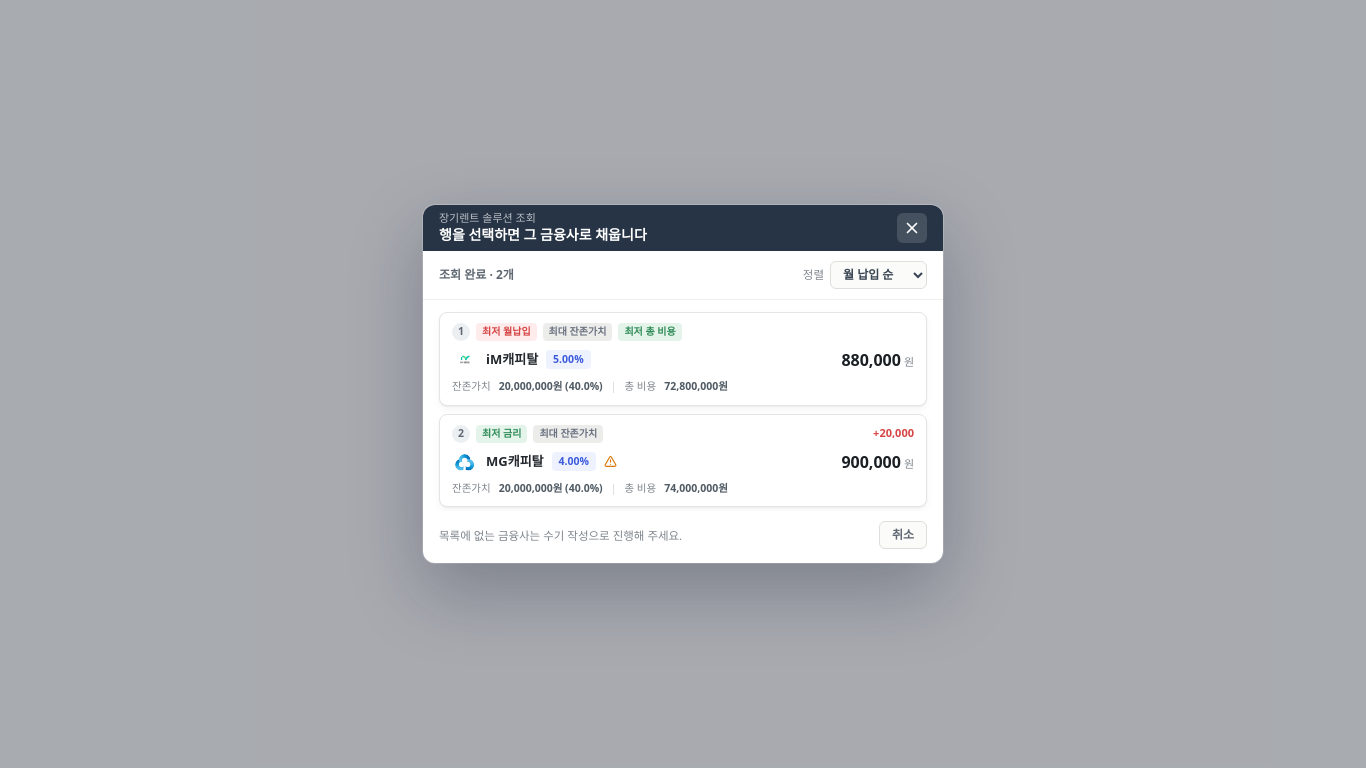
Test case: SolutionLenderRankingModal (개정 2 R4 — 제프 랭킹 UX 미러) › 정렬 토글: 금리 순으로 바꾸면 MG(4%)가 1위로 — +차액은 월 납입 순 전용이라 사라진다
The image size is (1366, 768).
Expected: the number of buttons with class "kim-solution-rank-row" is 2, 439,312 -> 927,406; 439,414 -> 927,507
Step 1. Select "금리 순" in the dropdown labelled "정렬" → [878, 275], box 830,261 -> 927,289
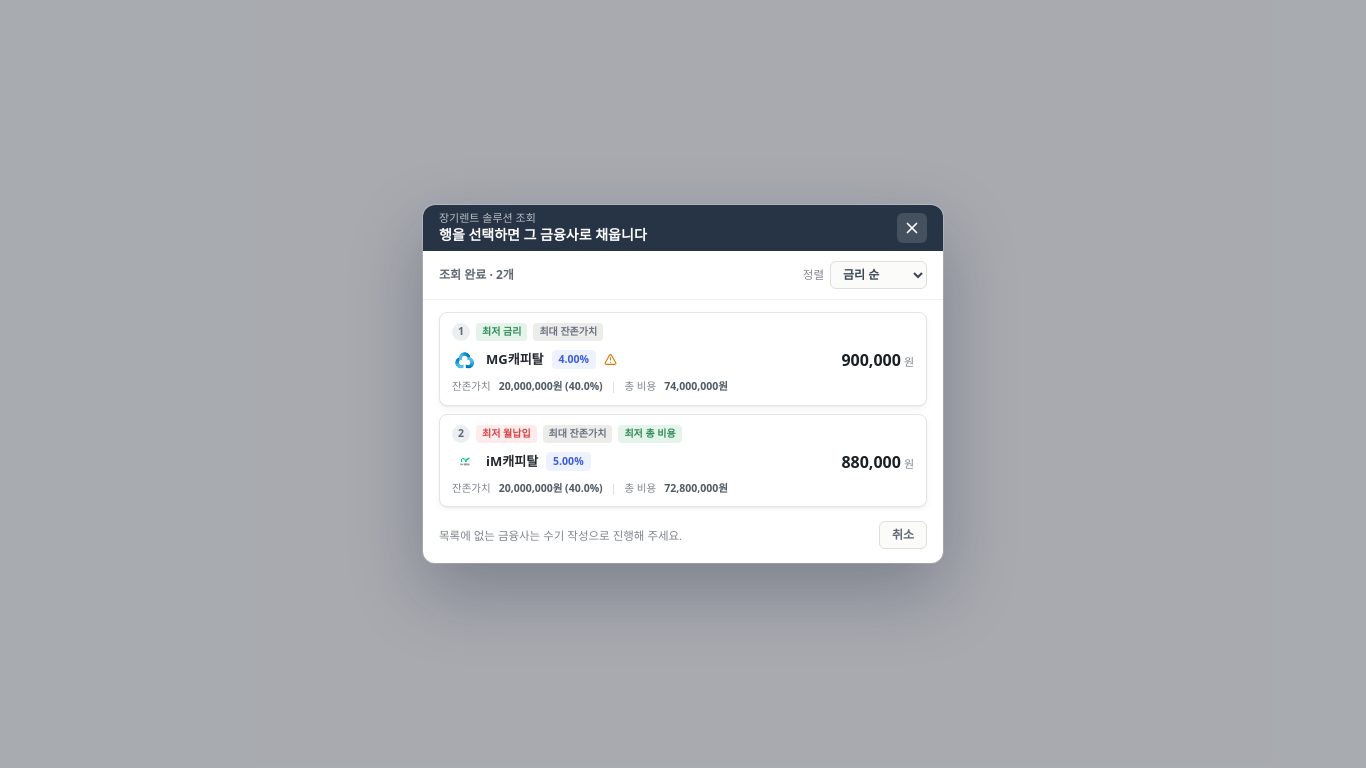
Expected: the button with class "kim-solution-rank-row" shows "MG캐피탈", 439,312 -> 927,406
Expected: the text with class "kim-solution-rank-row" no longer shows "+20,000"
